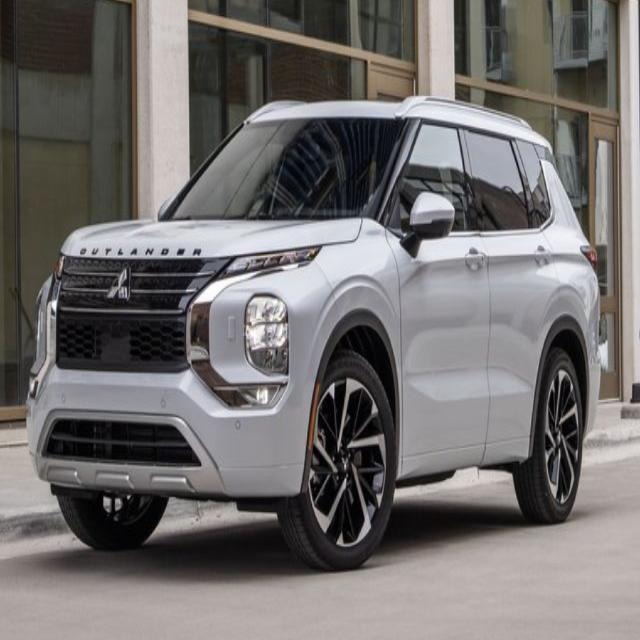light_vehicle: (26, 95, 603, 572)
